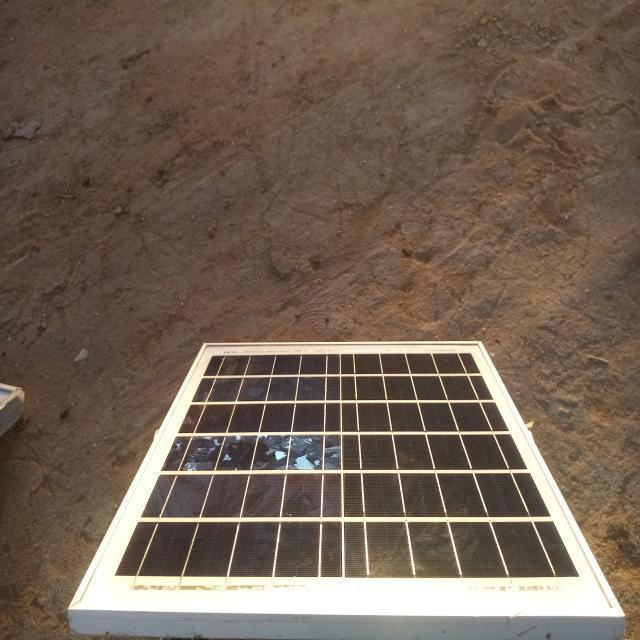Normal Solar Panel: (75, 345, 622, 617)
